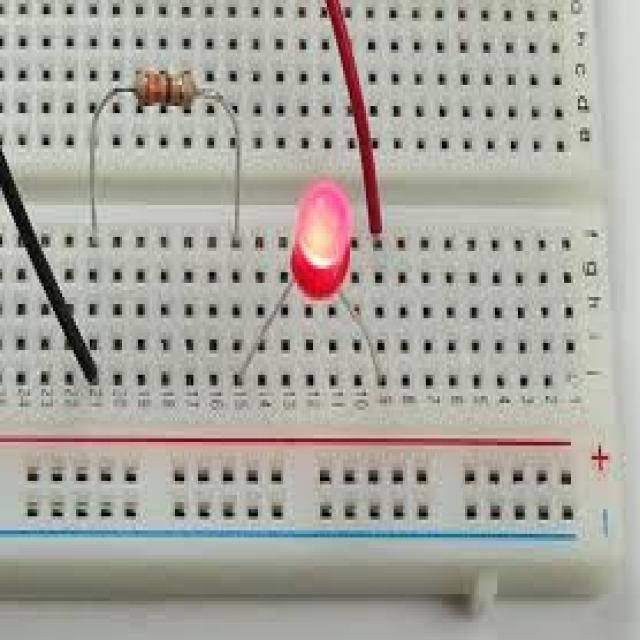Capacitor Electrolitico: (131, 63, 199, 111)
